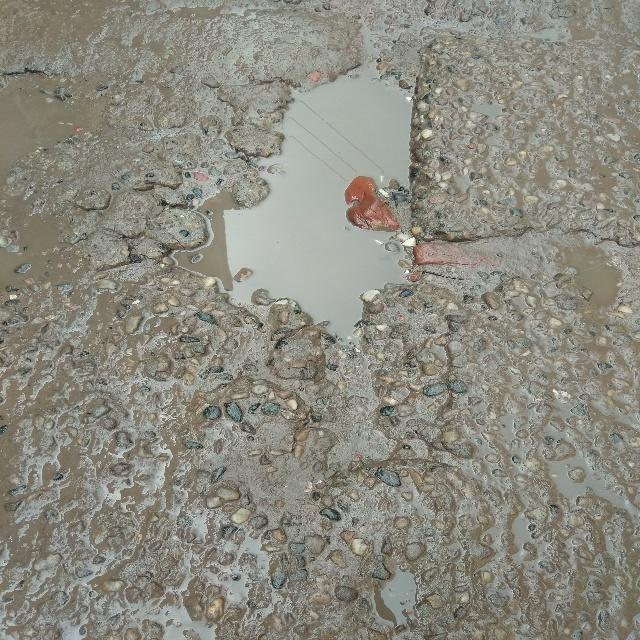Pothole: (255, 67, 424, 308)
Surface Erosion: (8, 0, 640, 638)
